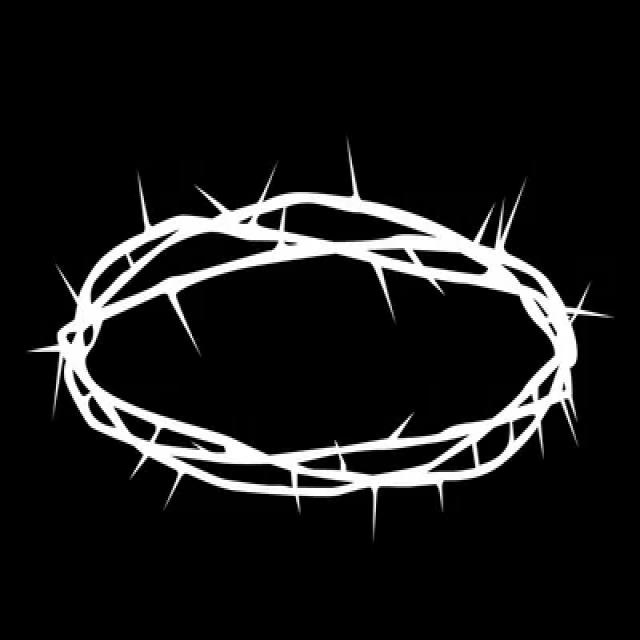crown: (42, 173, 602, 502)
